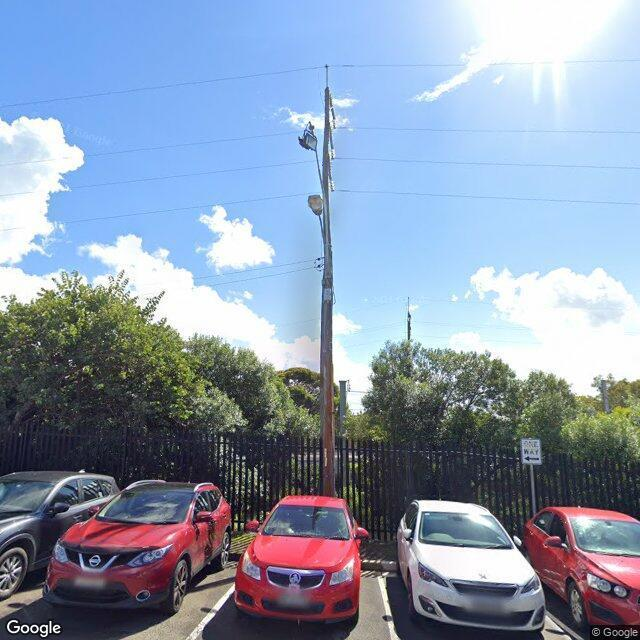HV-transmission: (326, 65, 336, 192)
streetlight: (308, 194, 330, 288)
timber-pole: (322, 86, 334, 498)
